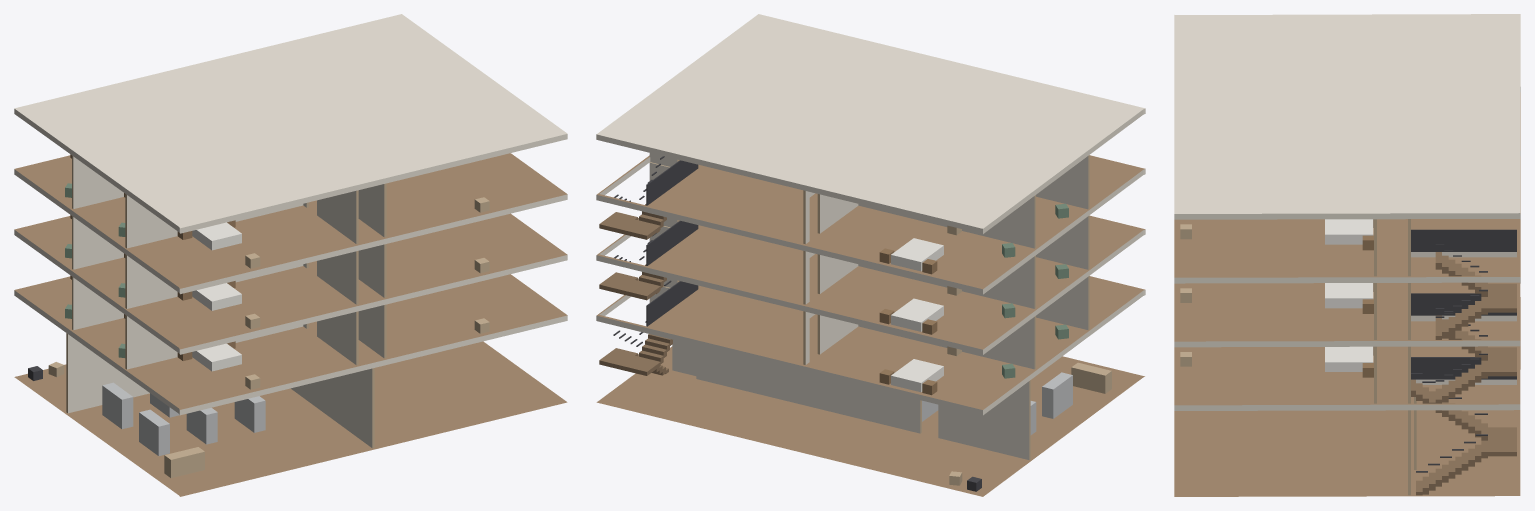
Rendered from interior.glb.
The picture shows the model from 3 angles, left to right: view 1: azimuth 30°, elevation 25°; view 2: azimuth 150°, elevation 25°; view 3: azimuth 270°, elevation 25°; orthographic projection. The views are drawn at different scales.
Parts seen in each view (by area): view 1: slabs, partitions, coarse-s0, coarse-s3, coarse-s1, coarse-s2; view 2: slabs, partitions, stair, coarse-s0, coarse-s1, coarse-s2, coarse-s3; view 3: slabs, stair, coarse-s3, coarse-s2, coarse-s1, partitions.
Boxes of the visible parts, x1,y1,x2,y2 form: slabs: (14,14,567,496); partitions: (66,155,386,448); coarse-s0: (28,362,265,478); coarse-s3: (65,154,489,268); coarse-s1: (65,275,489,389); coarse-s2: (65,215,489,329); slabs: (596,14,1145,496); partitions: (649,153,1089,459); stair: (599,156,698,375); coarse-s0: (922,362,1111,491); coarse-s1: (879,324,1068,395); coarse-s2: (879,264,1068,334); coarse-s3: (879,203,1068,274); slabs: (1174,14,1520,496); stair: (1411,229,1516,495); coarse-s3: (1180,219,1373,250); coarse-s2: (1180,283,1373,313); coarse-s1: (1180,346,1373,377); partitions: (1374,219,1416,495).
Size of the model in its own units: 19.55 by 12.91 by 14.3.
